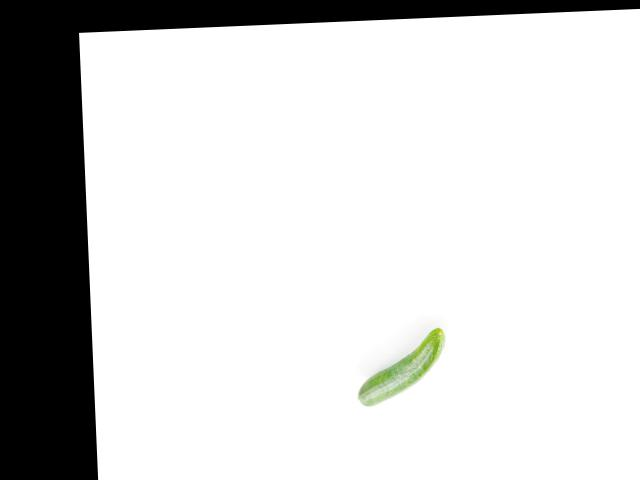cucumber: (355, 327, 447, 406)
